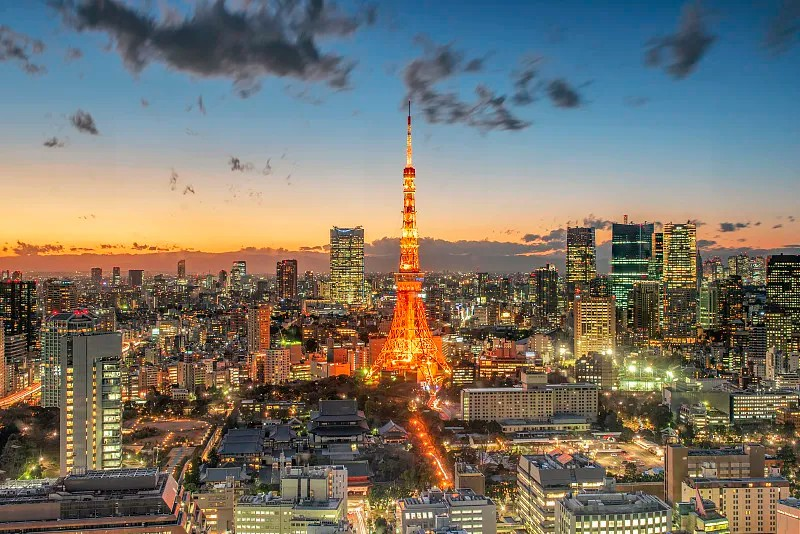Tokyo: (371, 97, 454, 382)
